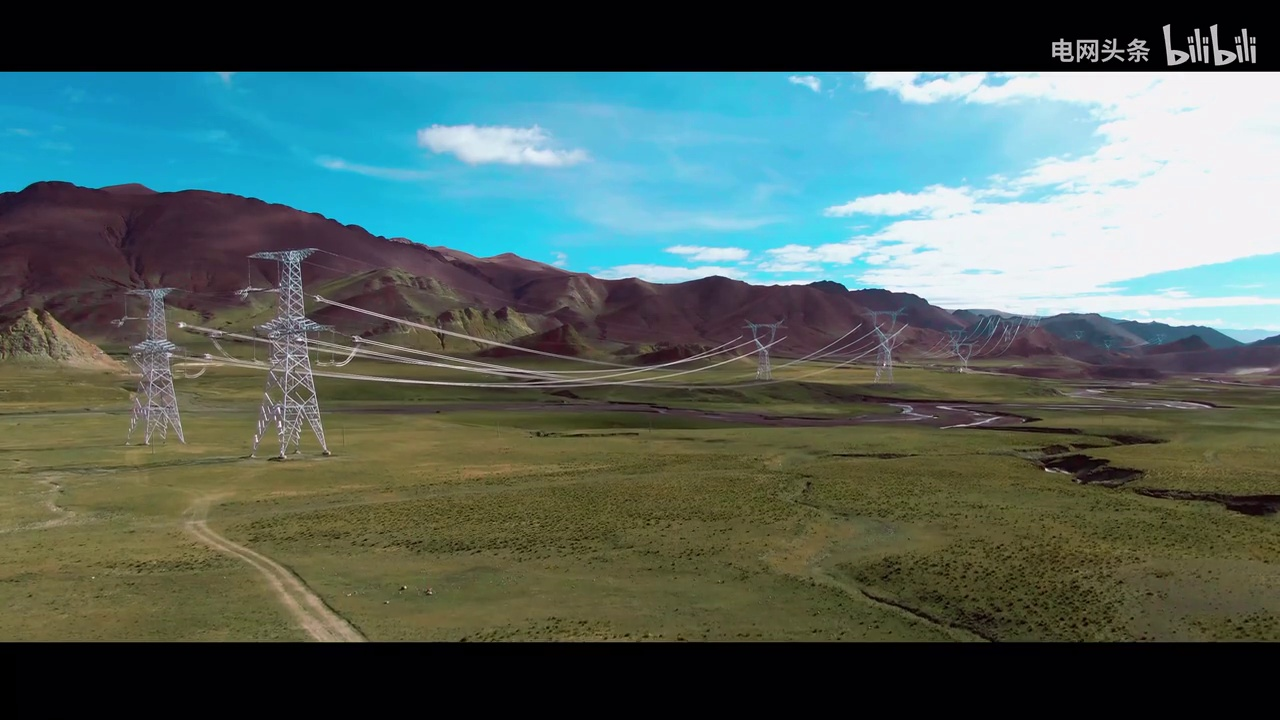tower_body: (230, 237, 351, 469), (109, 276, 206, 454)
tower_foot: (247, 408, 338, 463), (123, 408, 193, 445)
tower_head: (239, 244, 330, 272), (116, 280, 187, 307)
